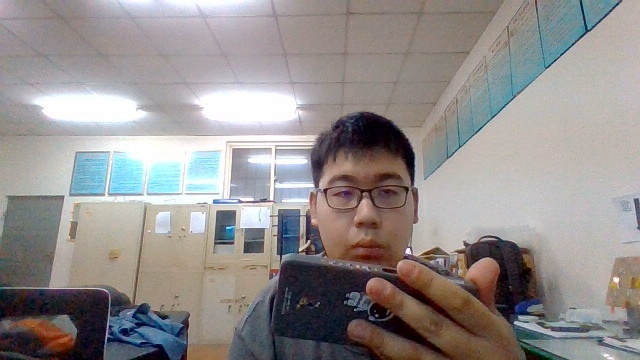playing: (272, 124, 497, 358)
